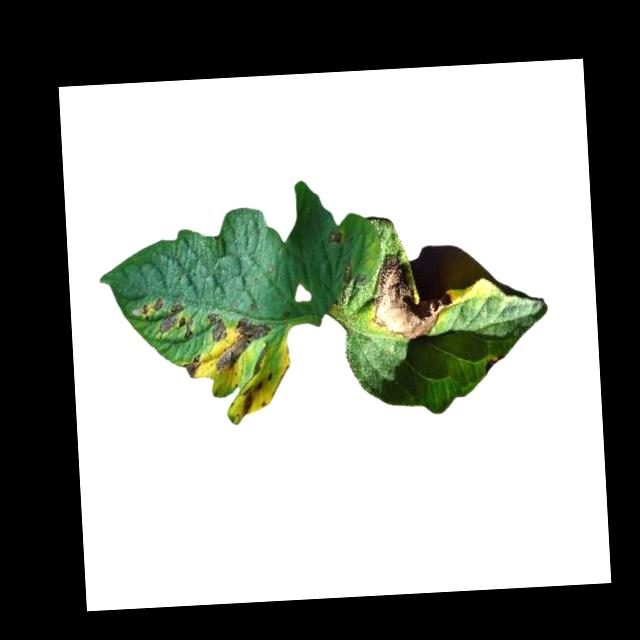Early_blight: (368, 251, 455, 341), (214, 317, 272, 370), (139, 296, 193, 343), (237, 371, 276, 417), (204, 312, 227, 346), (182, 355, 203, 379), (326, 230, 345, 245)
